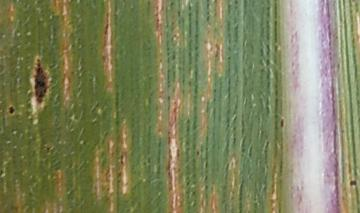tarspot: (32, 57, 48, 104), (103, 11, 110, 36), (278, 117, 285, 130), (348, 179, 358, 187), (175, 9, 182, 19), (8, 105, 15, 114), (119, 153, 124, 165), (44, 146, 52, 153), (225, 54, 233, 61), (168, 1, 175, 8), (195, 149, 200, 158), (212, 87, 218, 93), (233, 1, 238, 6), (212, 1, 218, 4)
